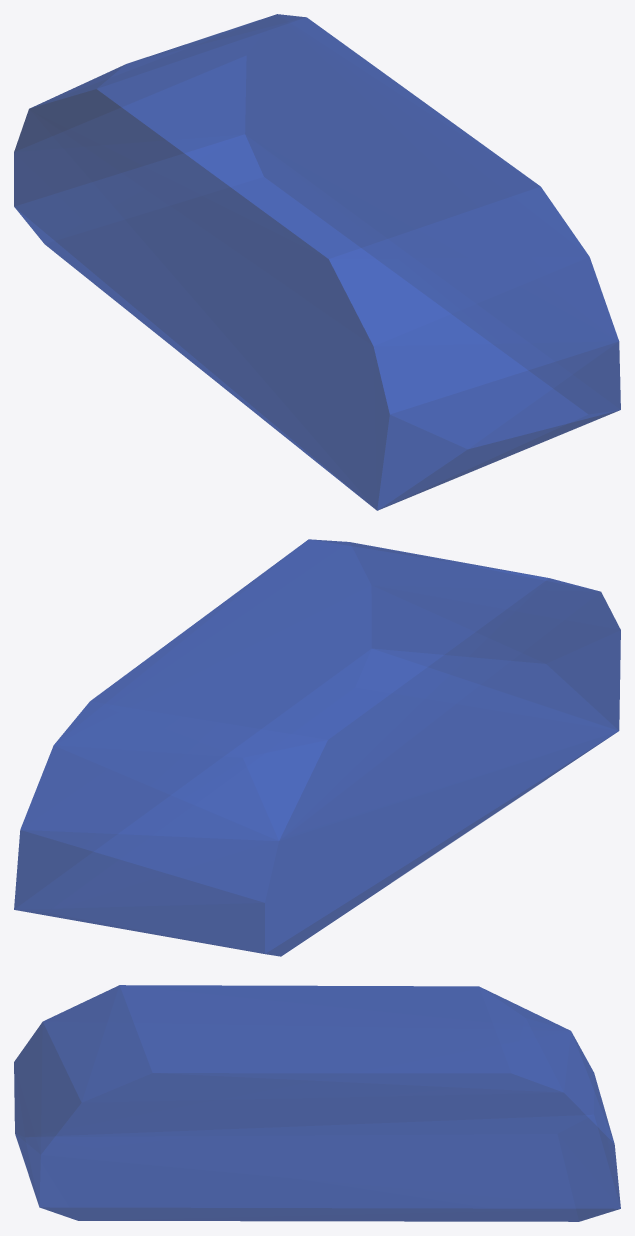
3 views of the same model, one above another, from view 1: azimuth 30°, elevation 25°; view 2: azimuth 150°, elevation 25°; view 3: azimuth 270°, elevation 25° (orthographic). The views are drawn at different scales.
Parts seen in each view (by area): view 1: Shape_IndexedFaceSet.019_Shape_IndexedFaceSet.16486; view 2: Shape_IndexedFaceSet.019_Shape_IndexedFaceSet.16486; view 3: Shape_IndexedFaceSet.019_Shape_IndexedFaceSet.16486.
Part boxes in pixels (<box>): Shape_IndexedFaceSet.019_Shape_IndexedFaceSet.16486: <box>14,14,620,510</box>; Shape_IndexedFaceSet.019_Shape_IndexedFaceSet.16486: <box>14,539,620,956</box>; Shape_IndexedFaceSet.019_Shape_IndexedFaceSet.16486: <box>14,985,620,1221</box>.
Size of the model in its own units: 0.0742 by 0.0567 by 0.1989.
